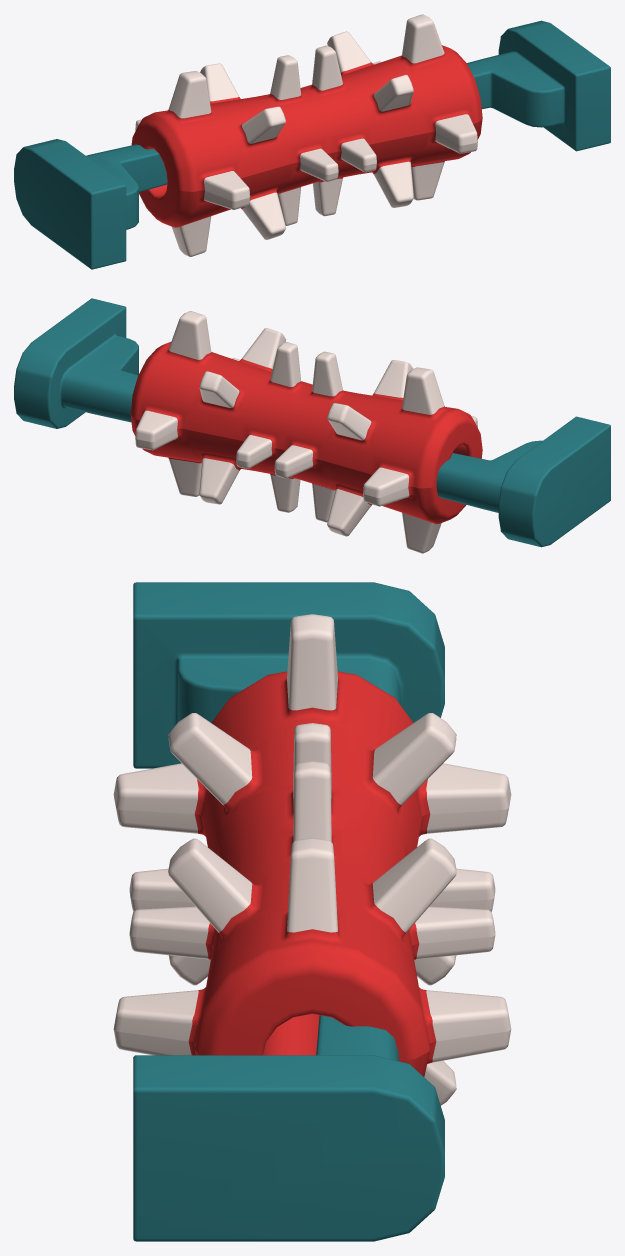
3 views of the same model, one above another, from view 1: azimuth 30°, elevation 25°; view 2: azimuth 150°, elevation 25°; view 3: azimuth 270°, elevation 25° (orthographic). The views are drawn at different scales.
Visible parts, largest first — view 1: Cylinder.004, Cube; view 2: Cylinder.004, Cube; view 3: Cylinder.004, Cube.
Part boxes in pixels (x1,y1,x2,y2): Cylinder.004: (131, 14, 482, 256); Cube: (14, 20, 610, 269); Cylinder.004: (130, 311, 482, 553); Cube: (14, 298, 610, 547); Cylinder.004: (113, 614, 511, 1105); Cube: (133, 582, 444, 1241).
Size of the model in its own units: 6.06 by 2 by 2.
